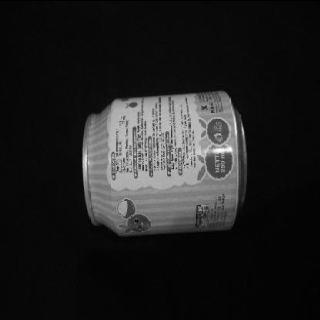alumunium_can: (79, 86, 250, 238)
